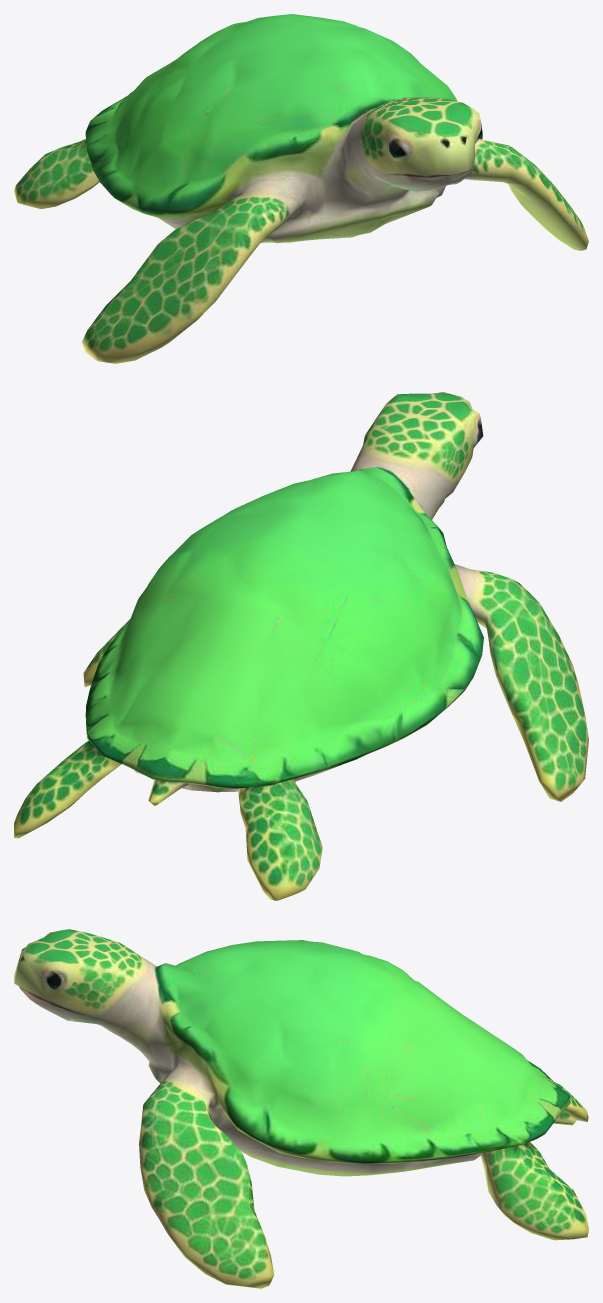
File: obstacle_sea_turtle.glb
3 views of the same model, one above another, from view 1: azimuth 30°, elevation 25°; view 2: azimuth 150°, elevation 25°; view 3: azimuth 270°, elevation 25° (orthographic). The views are drawn at different scales.
Parts seen in each view (by area): view 1: Mesh_0; view 2: Mesh_0; view 3: Mesh_0.
Boxes of the visible parts, x1,y1,x2,y2 form: Mesh_0: (14,14,588,363); Mesh_0: (14,392,588,900); Mesh_0: (14,929,588,1288).
Bounding box in the file's own units: 1.7 × 0.8784 × 1.91.
1 material, 1 textured.
